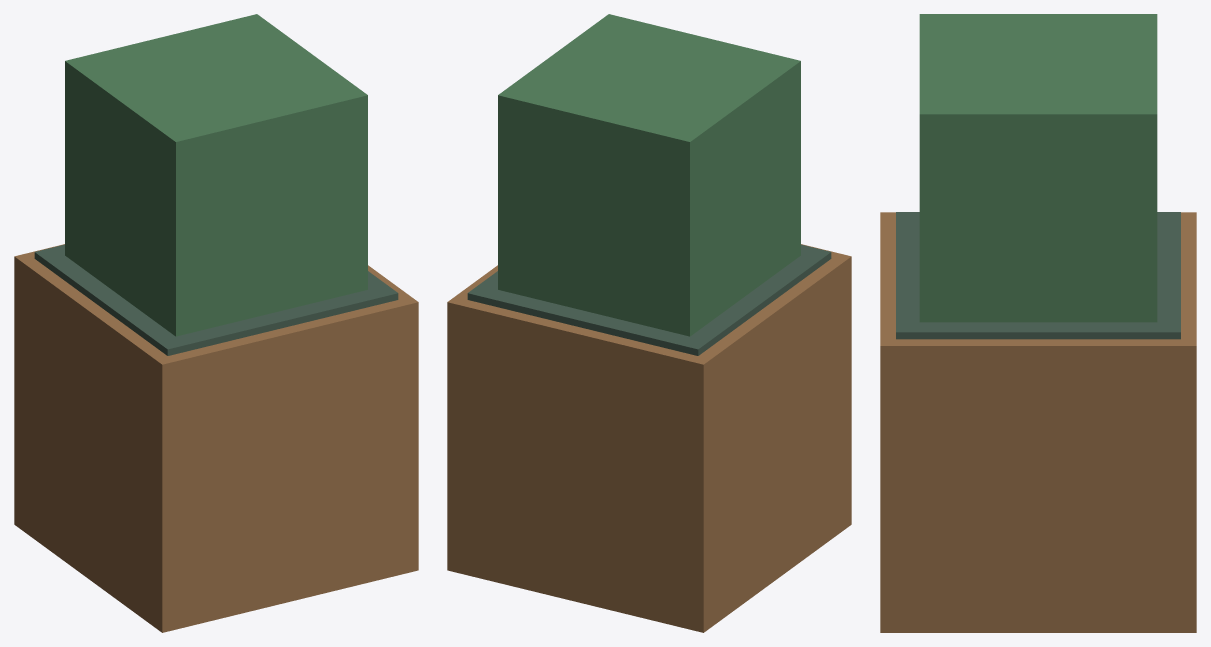
3 renders of one model, left to right at view 1: azimuth 30°, elevation 25°; view 2: azimuth 150°, elevation 25°; view 3: azimuth 270°, elevation 25°, orthographic. The views are drawn at different scales.
Visible parts, largest first — view 1: pot, foliage, soil; view 2: pot, foliage, soil; view 3: pot, foliage, soil.
Boxes of the visible parts, x1,y1,x2,y2 form: pot: (14, 244, 418, 632); foliage: (65, 14, 367, 336); soil: (34, 244, 398, 355); pot: (447, 244, 851, 632); foliage: (498, 14, 800, 336); soil: (467, 244, 831, 355); pot: (880, 212, 1196, 632); foliage: (919, 14, 1157, 322); soil: (896, 212, 1180, 339).
Size of the model in its own units: 0.4 by 0.7 by 0.4.
